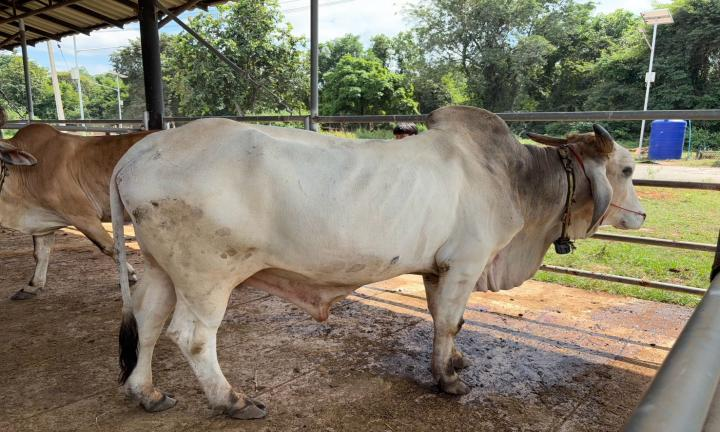Brahman: (109, 106, 644, 419)
